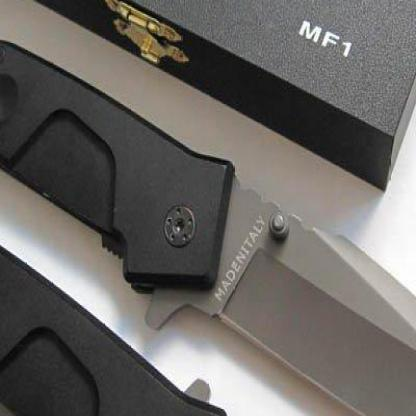knife: (182, 182, 415, 414)
